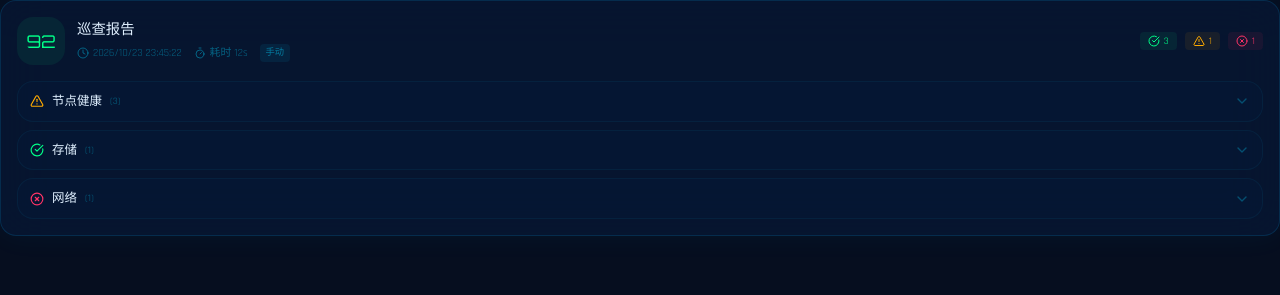
Test: PatrolReport › 展开/折叠 › 展开后应显示检查值
Click the text "网络" at (64, 199), box [52,189,77,208]
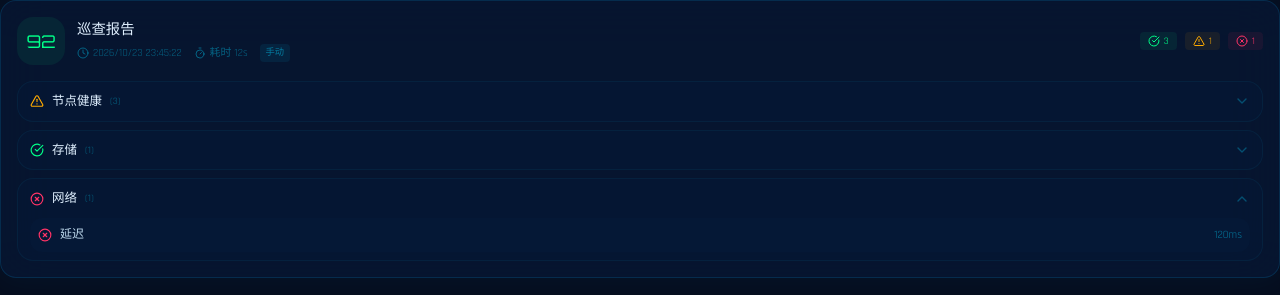
Result: the text "120ms" is shown at [1214,227,1242,244]
